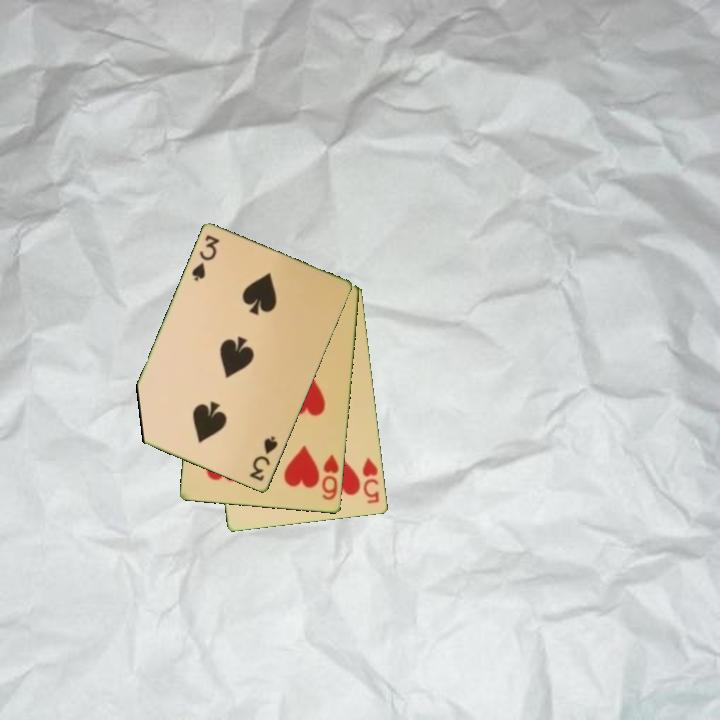3s: (246, 433, 281, 484), (188, 232, 222, 284)
5h: (359, 454, 382, 507)
6h: (319, 451, 342, 503)
